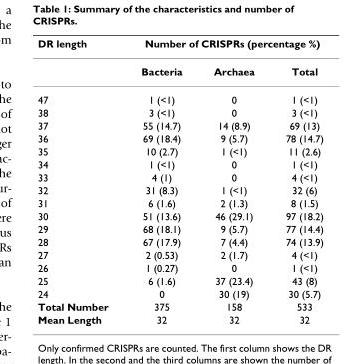table: (37, 36, 322, 325)
table column: (37, 36, 124, 325), (124, 36, 197, 325), (197, 36, 269, 325), (269, 36, 322, 325)
table column header: (37, 36, 322, 85)
table row: (37, 56, 322, 85), (37, 36, 322, 56), (37, 85, 322, 105), (37, 105, 322, 118), (37, 118, 322, 131), (37, 131, 322, 144), (37, 144, 322, 157), (37, 157, 322, 170), (37, 170, 322, 183), (37, 183, 322, 196), (37, 196, 322, 209), (37, 209, 322, 222), (37, 222, 322, 235), (37, 235, 322, 248), (37, 260, 322, 273), (37, 273, 322, 286), (37, 286, 322, 299), (37, 299, 322, 312), (37, 312, 322, 325), (37, 248, 322, 260)
table spanning cell: (37, 36, 124, 85), (124, 36, 322, 56)
